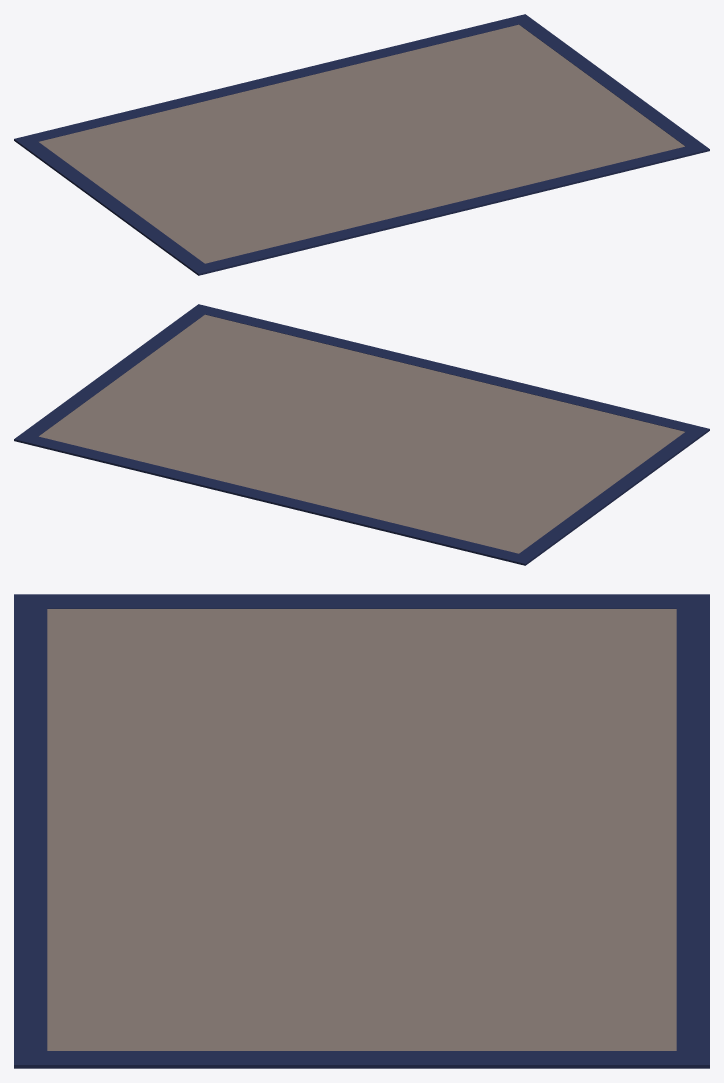
The model's file is rug_runner.glb.
The picture shows the model from 3 angles, top to bottom: view 1: azimuth 30°, elevation 25°; view 2: azimuth 150°, elevation 25°; view 3: azimuth 270°, elevation 25°; orthographic projection. The views are drawn at different scales.
Parts seen in each view (by area): view 1: Field_LOD0, Border_LOD0, Border_LOD0.001, Border_LOD0.002, Border_LOD0.003; view 2: Field_LOD0, Border_LOD0.001, Border_LOD0, Border_LOD0.002, Border_LOD0.003; view 3: Field_LOD0, Border_LOD0, Border_LOD0.001, Border_LOD0.003, Border_LOD0.002.
Boxes of the visible parts, <box> form: Field_LOD0: <box>39,24,684,263</box>; Border_LOD0: <box>189,143,709,275</box>; Border_LOD0.001: <box>14,14,533,146</box>; Border_LOD0.002: <box>23,141,204,268</box>; Border_LOD0.003: <box>519,20,700,146</box>; Field_LOD0: <box>39,314,684,553</box>; Border_LOD0.001: <box>14,433,534,565</box>; Border_LOD0: <box>190,304,709,436</box>; Border_LOD0.002: <box>519,431,700,558</box>; Border_LOD0.003: <box>23,310,204,436</box>; Field_LOD0: <box>47,609,676,1050</box>; Border_LOD0: <box>14,594,47,1068</box>; Border_LOD0.001: <box>676,594,709,1068</box>; Border_LOD0.003: <box>47,1051,676,1068</box>; Border_LOD0.002: <box>47,594,676,608</box>.
Bounding box in the file's own units: 4 × 0.014 × 2.5.
